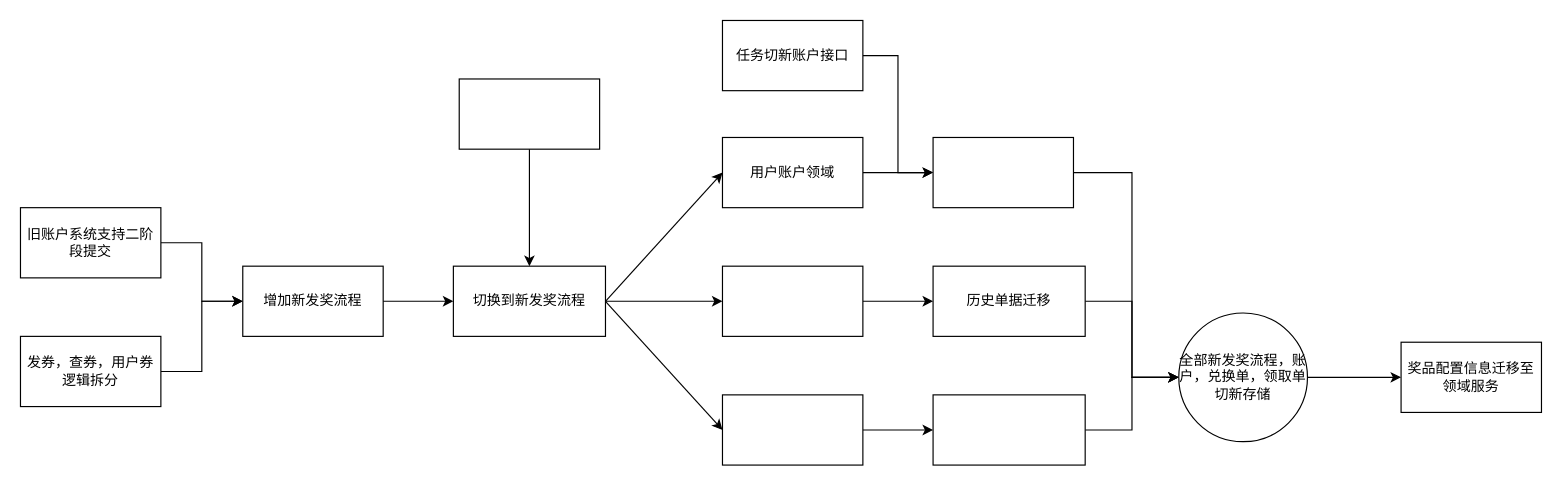
Image size: 1562x486. Some labels were removed from this diagram. The shapes that lost their labels are listed below. From the top down, each one's centre as x and y in pixels, then its label:
(529,113): 普通奖品，幸运瓶配置迁移
(1002,172): 账户数据迁移
(792,300): 兑换单据改造
(792,429): 用户领取单迁移
(1008,429): 用户历史列表改造
